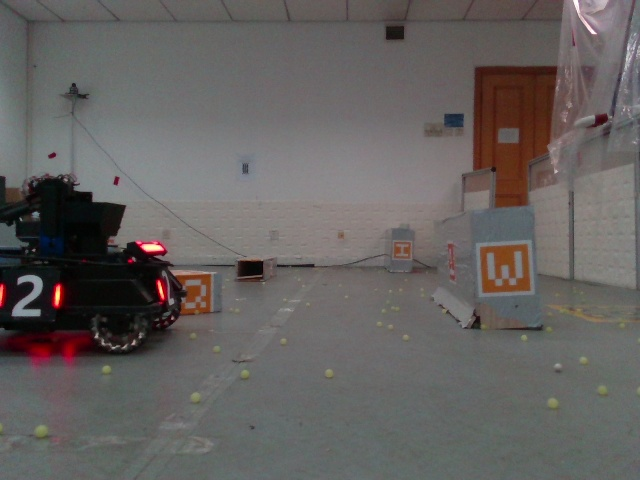Robot_Red: (1, 176, 184, 351)
armor_Red: (1, 274, 62, 315), (155, 270, 175, 306)
